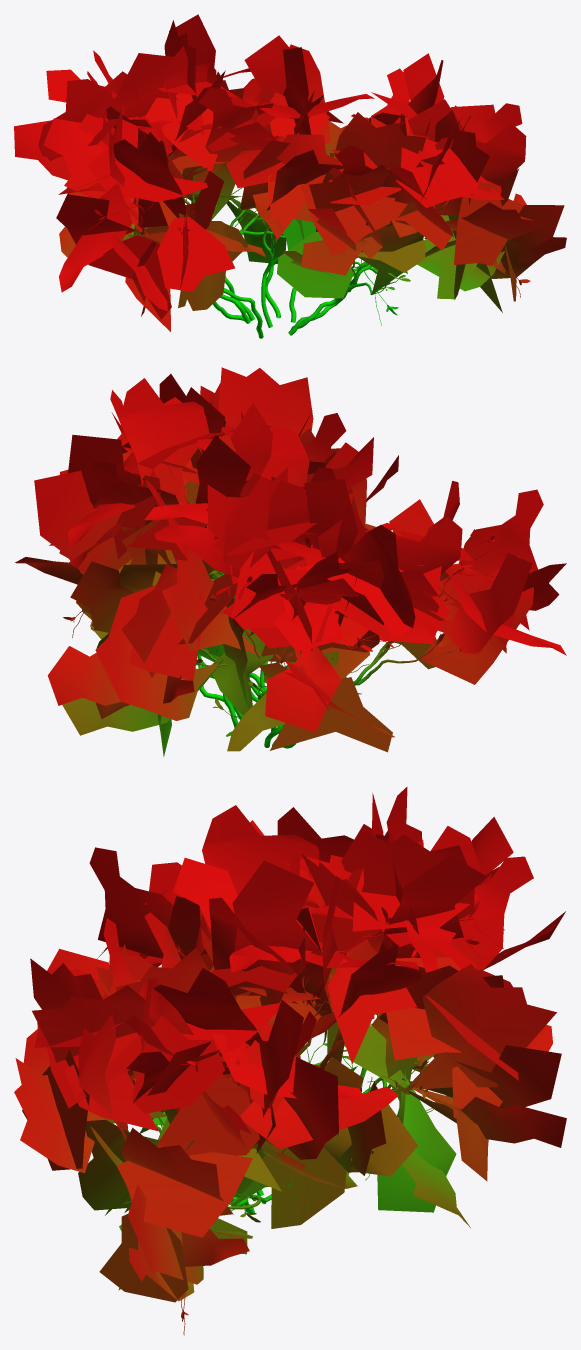
The model's file is Downy Willow_LOD3_Var1_wknlfiuqx.fbx.
3 views of the same model, one above another, from view 1: azimuth 30°, elevation 25°; view 2: azimuth 150°, elevation 25°; view 3: azimuth 270°, elevation 25° (orthographic). The views are drawn at different scales.
Parts seen in each view (by area): view 1: _vnwm_Var1_LOD3; view 2: _vnwm_Var1_LOD3; view 3: _vnwm_Var1_LOD3.
Boxes of the visible parts, x1,y1,x2,y2 form: _vnwm_Var1_LOD3: [14, 14, 566, 338]; _vnwm_Var1_LOD3: [15, 367, 566, 756]; _vnwm_Var1_LOD3: [14, 787, 566, 1335].
Size of the model in its own units: 220 by 125 by 171.
